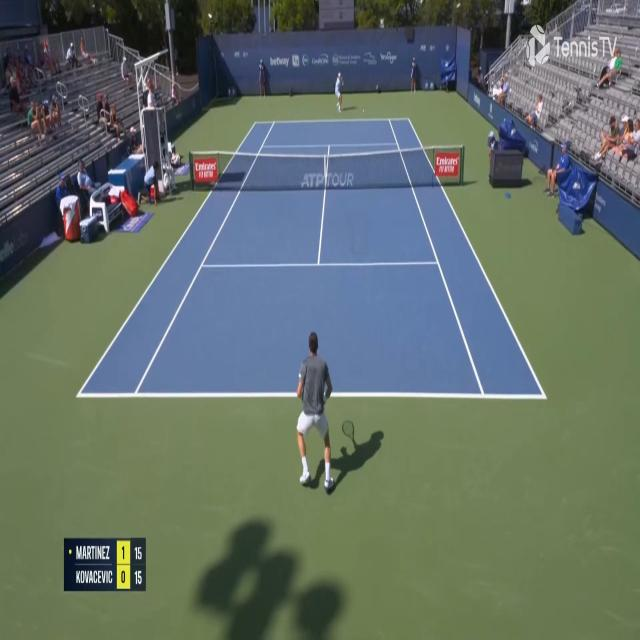tennis-player: (296, 327, 348, 498), (334, 70, 345, 112)
